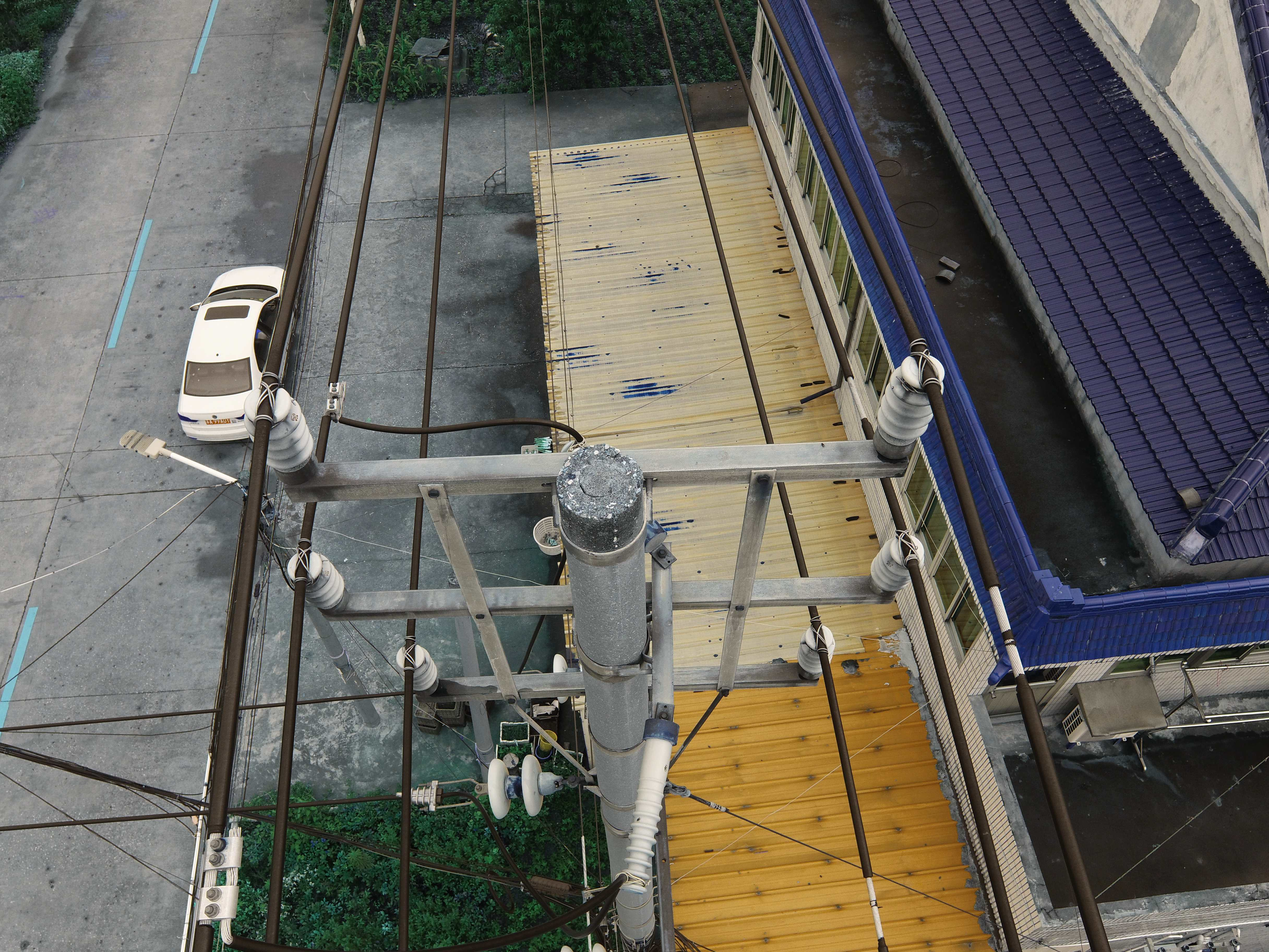severe_soiling_no_discharge_whole: (239, 383, 322, 485), (284, 549, 350, 612)
